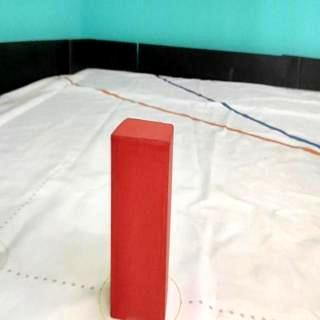redbox: (110, 118, 174, 320)
